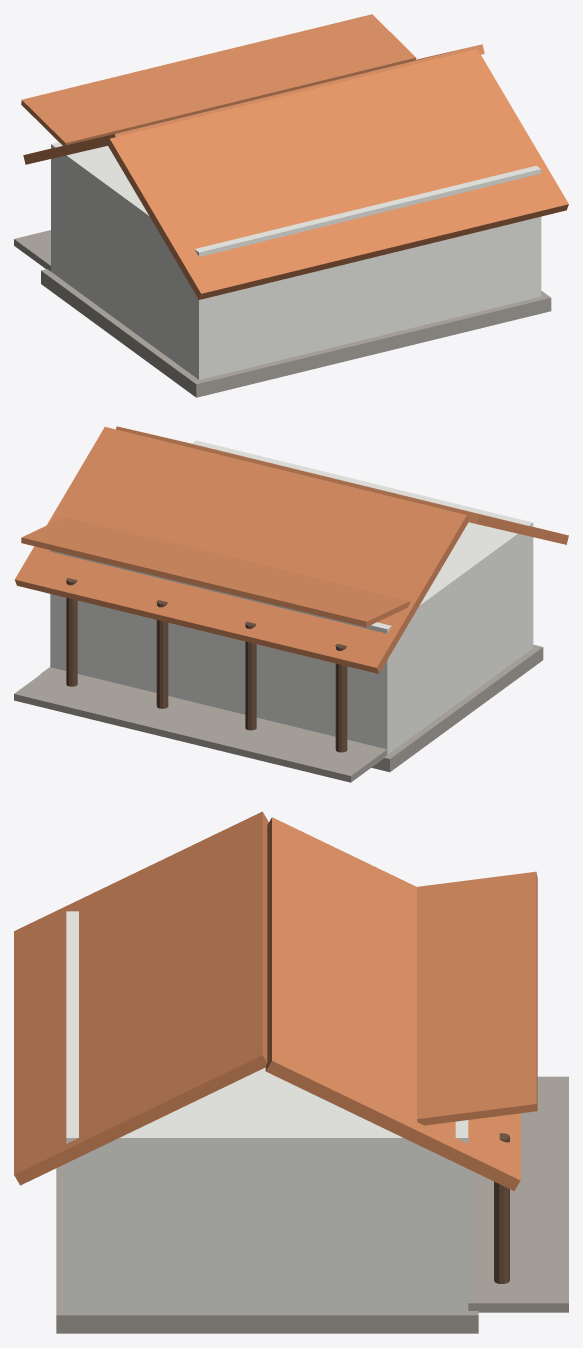
File: Bldg_KeralaHouse_A.fbx
The picture shows the model from 3 angles, top to bottom: view 1: azimuth 30°, elevation 25°; view 2: azimuth 150°, elevation 25°; view 3: azimuth 270°, elevation 25°; orthographic projection. The views are drawn at different scales.
Visible parts, largest first — view 1: Bldg_KeralaHouse_A; view 2: Bldg_KeralaHouse_A; view 3: Bldg_KeralaHouse_A.
Boxes of the visible parts, left/top/right/bottom form: Bldg_KeralaHouse_A: left=14, top=14, right=568, bottom=397; Bldg_KeralaHouse_A: left=14, top=426, right=568, bottom=782; Bldg_KeralaHouse_A: left=14, top=811, right=568, bottom=1333.
Size of the model in its own units: 8.8 by 4.61 by 8.28.
